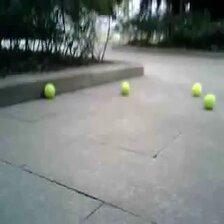tennis: (43, 83, 56, 96), (204, 95, 216, 109), (120, 83, 130, 95), (192, 85, 202, 95)
